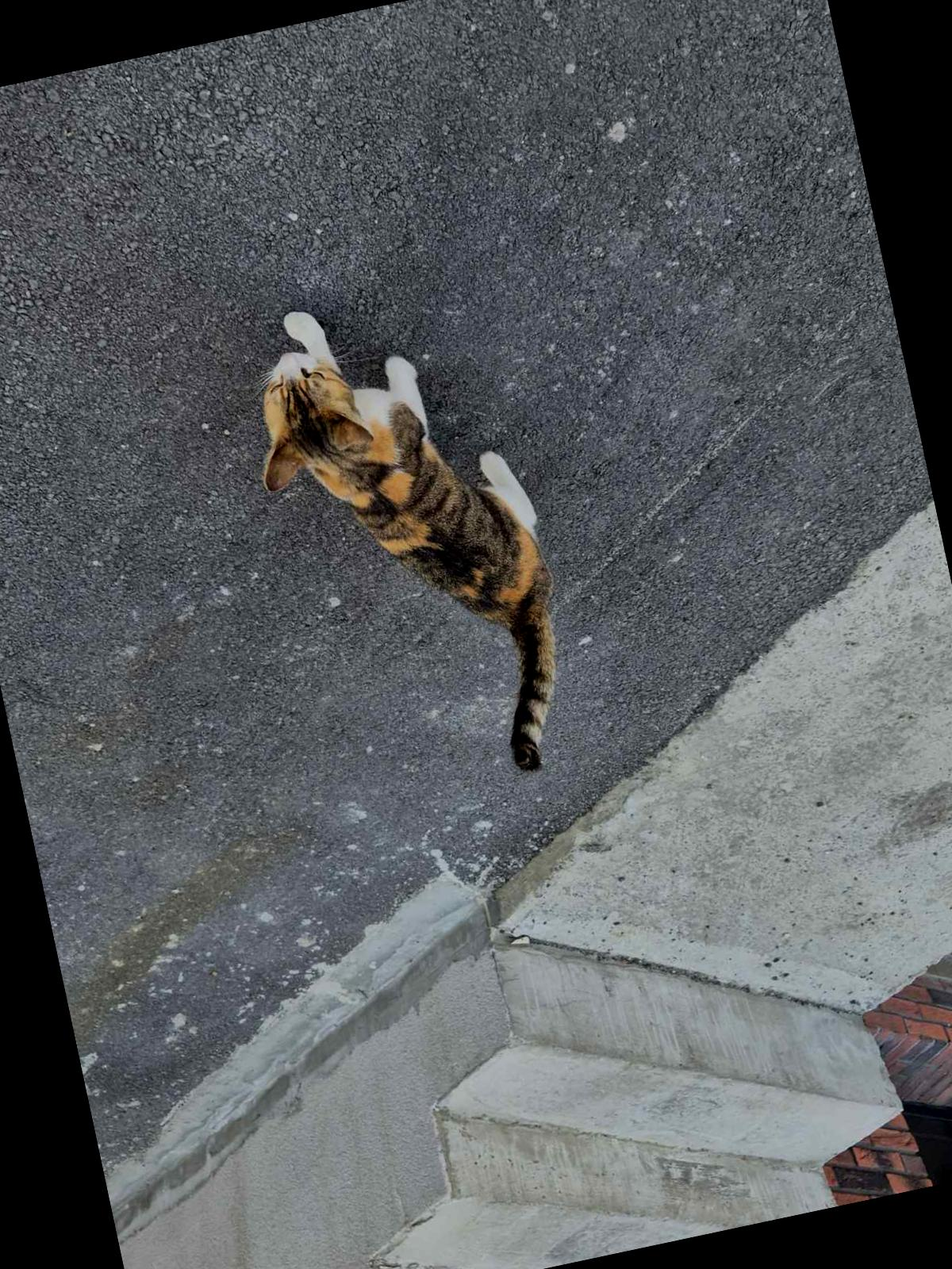macka: (228, 267, 592, 817)
